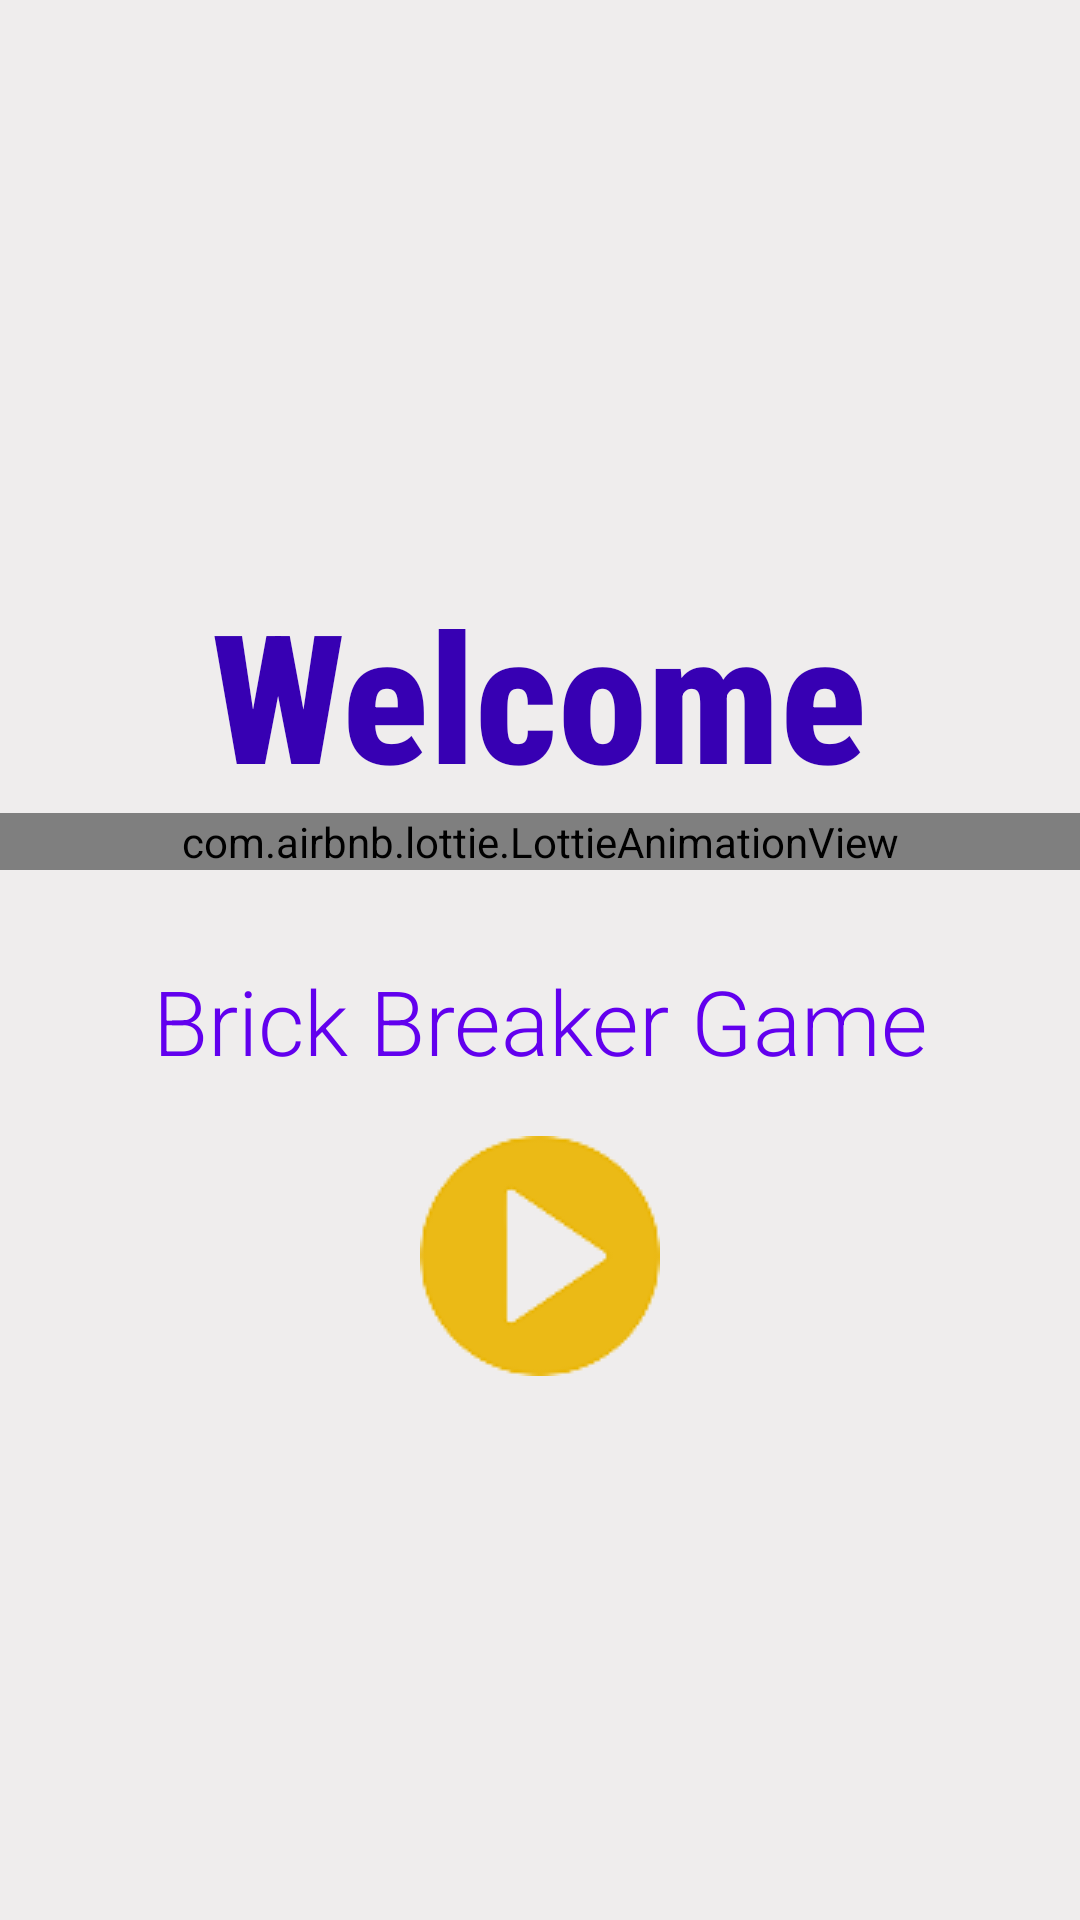

Point at icon controls on the screen. Image size 1080w x 1920h, points as (x,y).
play: (540,1256)
